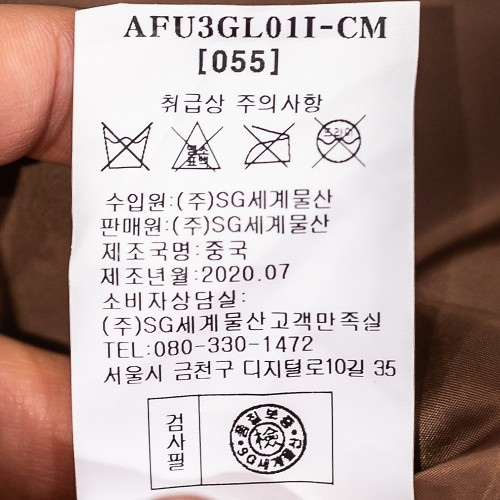KR_no_chlorine_bleach: (169, 120, 229, 177)
KR_no_dry_clean: (309, 115, 370, 169)
KR_no_iron: (240, 121, 296, 173)
KR_no_wash: (98, 115, 158, 175)
